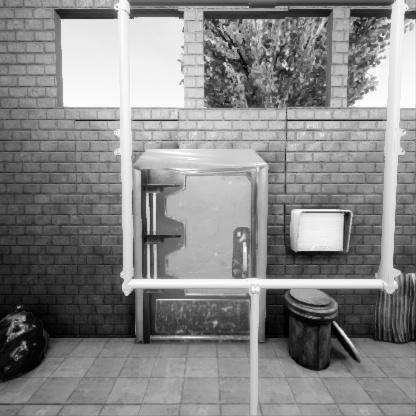gate: (110, 134, 416, 416)
